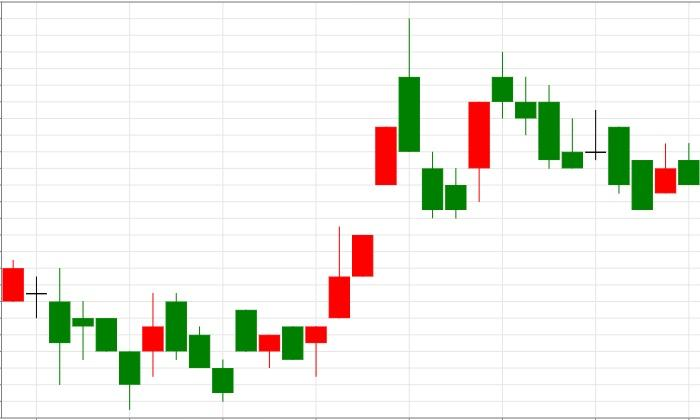three_white_soldiers_rise: (234, 226, 374, 377)
